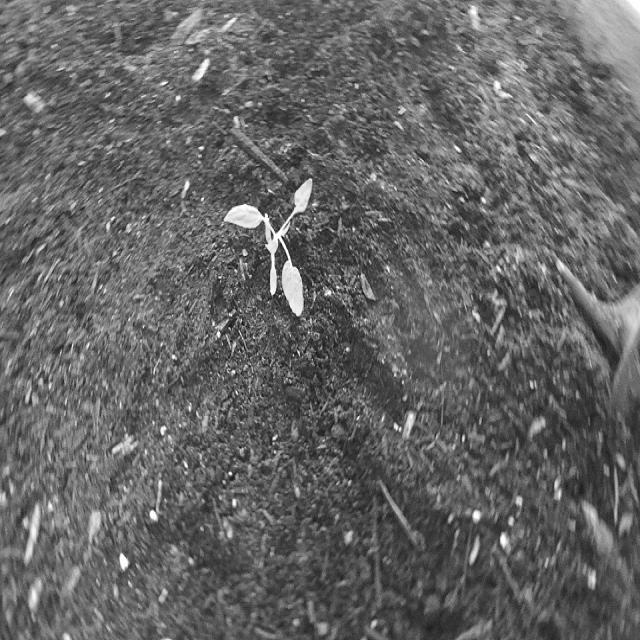Healthy: (222, 173, 320, 329)
